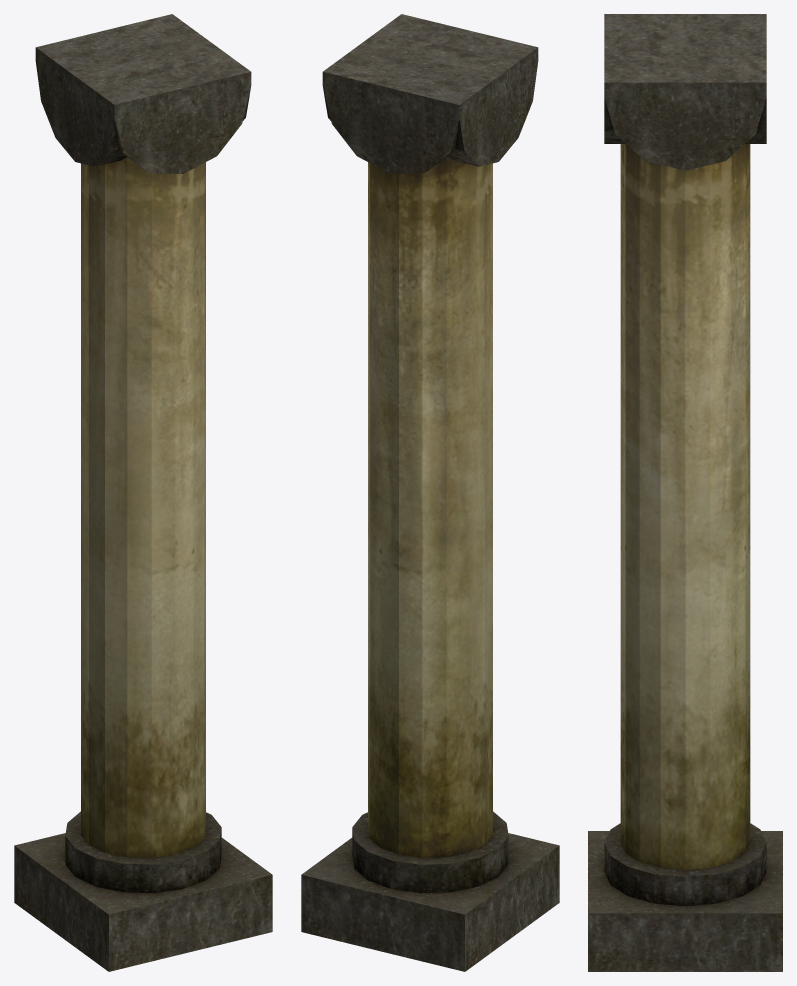
The model's file is column.obj.
The picture shows the model from 3 angles, left to right: view 1: azimuth 30°, elevation 25°; view 2: azimuth 150°, elevation 25°; view 3: azimuth 270°, elevation 25°; orthographic projection. The views are drawn at different scales.
Parts seen in each view (by area): view 1: Default; view 2: Default; view 3: Default.
Boxes of the visible parts, x1,y1,x2,y2 form: Default: [14, 14, 272, 971]; Default: [301, 14, 559, 971]; Default: [588, 14, 782, 971].
Bounding box in the file's own units: 0.6 × 3 × 0.6.
Materials: 1 (1 with a texture image).
